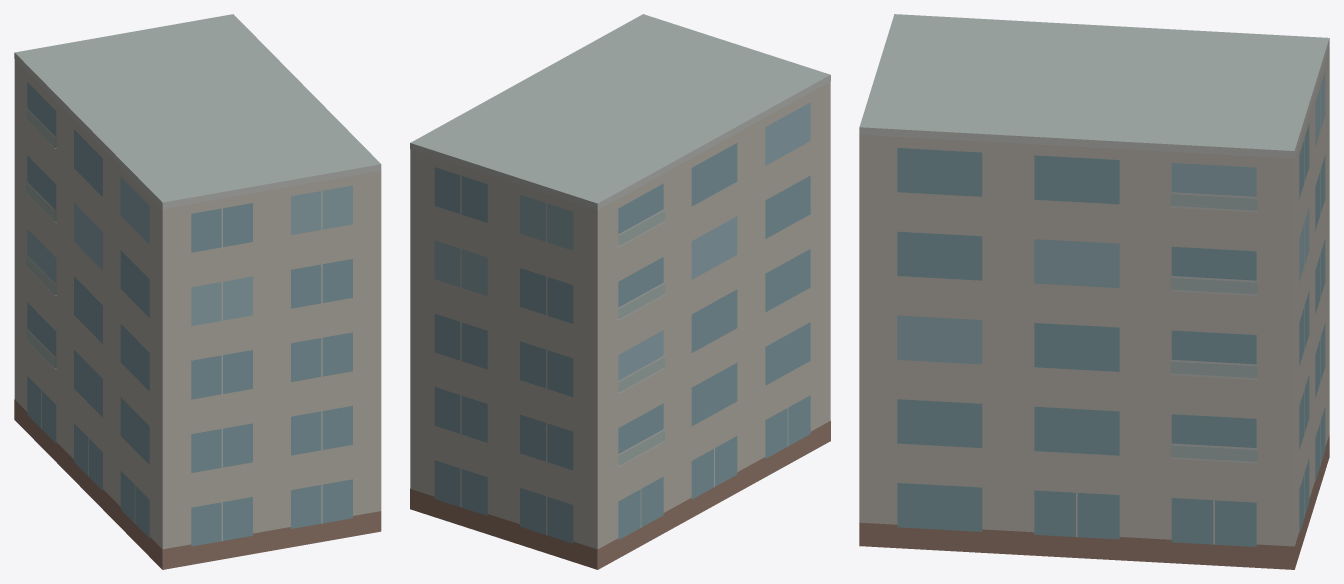
Rendered from survey-upis-32712309.glb.
3 renders of one model, left to right at view 1: azimuth 30°, elevation 25°; view 2: azimuth 150°, elevation 25°; view 3: azimuth 270°, elevation 25°, orthographic. The views are drawn at different scales.
Visible parts, largest first — view 1: survey-upis-32712309.tmp; view 2: survey-upis-32712309.tmp; view 3: survey-upis-32712309.tmp.
Boxes of the visible parts, x1,y1,x2,y2 form: survey-upis-32712309.tmp: (14, 14, 381, 569); survey-upis-32712309.tmp: (410, 14, 830, 569); survey-upis-32712309.tmp: (859, 14, 1329, 569).
Size of the model in its own units: 9.62 by 13.7 by 13.95.
